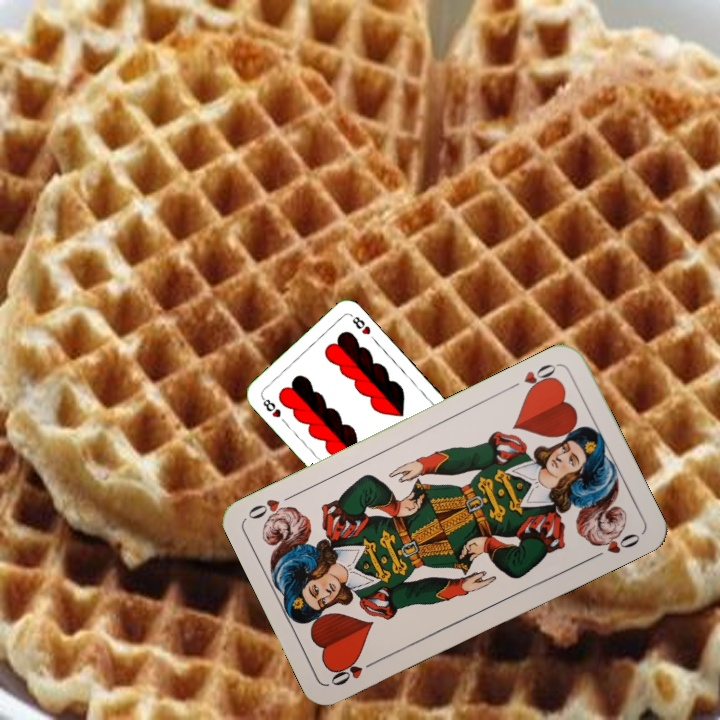H8: (257, 392, 283, 420)
HO: (505, 359, 560, 397), (326, 654, 382, 689)
